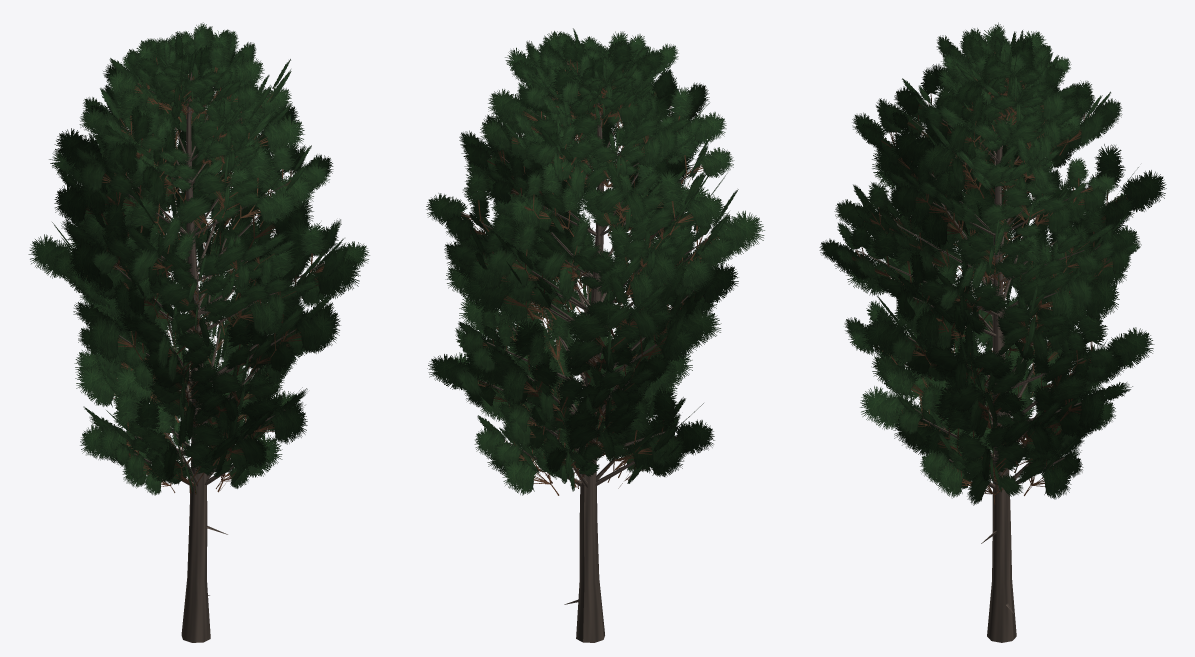
The model's file is tree_cedar.glb.
3 renders of one model, left to right at view 1: azimuth 30°, elevation 25°; view 2: azimuth 150°, elevation 25°; view 3: azimuth 270°, elevation 25°, orthographic.
Visible parts, largest first — view 1: LOD0; view 2: LOD0; view 3: LOD0.
Part boxes in pixels (<box>): LOD0: <box>28,22,369,642</box>; LOD0: <box>426,28,764,642</box>; LOD0: <box>819,22,1166,642</box>.
Size of what is drawn, in the model's own units: 11.18 by 21.2 by 11.79.
Materials: 2 (2 with a texture image).
